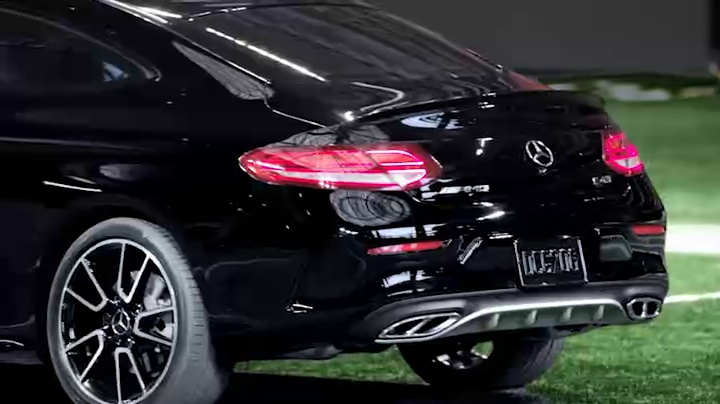amg: (1, 1, 668, 402)
